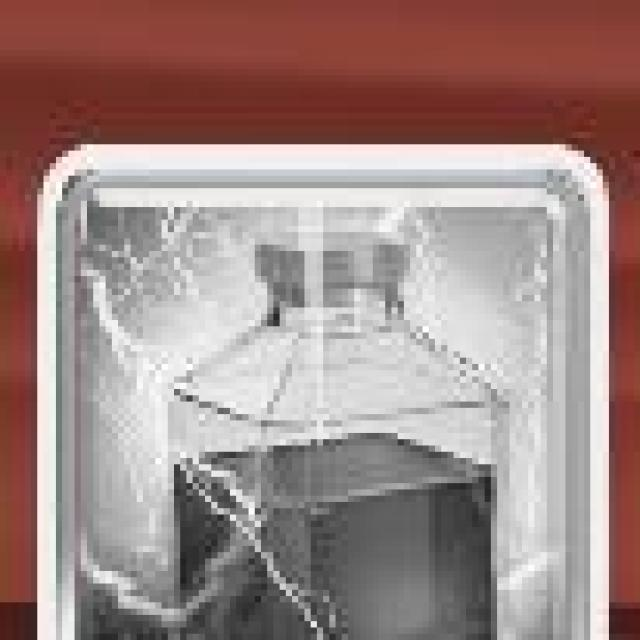Lightning: (52, 160, 605, 640)
